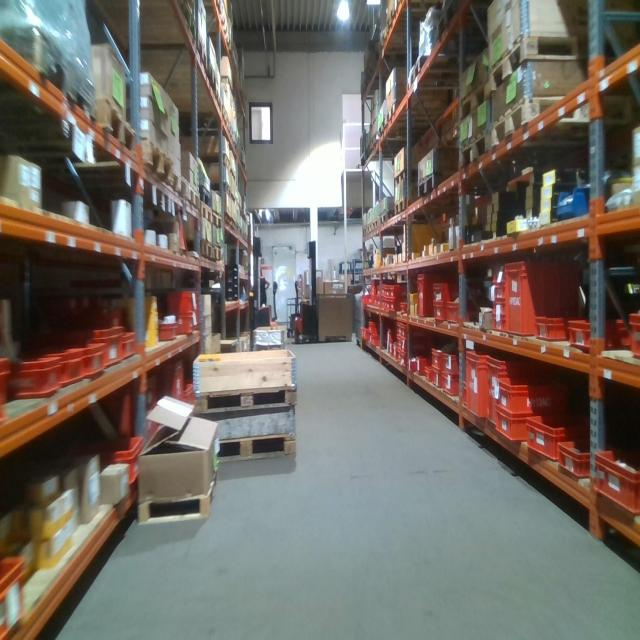pallet: (1, 89, 139, 163), (490, 31, 623, 96), (489, 95, 634, 151), (53, 137, 174, 192), (195, 384, 298, 420), (215, 432, 299, 467), (408, 56, 462, 96), (459, 128, 491, 170), (458, 84, 492, 123), (417, 172, 457, 199), (168, 165, 190, 205), (180, 2, 197, 47), (182, 180, 201, 214), (196, 155, 230, 172), (200, 60, 215, 97), (391, 169, 417, 189), (195, 32, 208, 71), (394, 199, 421, 216), (194, 180, 211, 207), (208, 181, 232, 200), (208, 78, 221, 113), (196, 237, 214, 262), (386, 103, 403, 128), (385, 7, 396, 36), (200, 207, 214, 227), (378, 213, 395, 229), (375, 121, 386, 142), (219, 214, 231, 230), (212, 213, 222, 230), (213, 247, 222, 264), (231, 223, 236, 235)
pallet_truck: (253, 230, 284, 344), (294, 240, 322, 344)
small_load_carrier: (505, 258, 581, 347), (483, 351, 550, 432), (79, 431, 148, 497), (58, 317, 124, 380), (522, 414, 598, 460), (492, 375, 569, 416), (596, 450, 640, 519), (570, 305, 620, 358), (1, 552, 30, 637), (18, 353, 64, 405), (558, 433, 599, 485), (466, 344, 486, 423), (492, 405, 524, 452), (56, 348, 88, 391), (418, 273, 448, 313), (131, 370, 160, 409), (0, 353, 16, 421), (89, 336, 114, 377), (623, 304, 640, 359), (534, 316, 569, 341), (169, 309, 204, 334), (122, 325, 137, 364), (432, 284, 459, 304), (157, 319, 178, 338), (444, 376, 461, 397), (443, 356, 460, 376), (494, 260, 507, 285), (492, 317, 507, 336), (431, 350, 443, 373), (446, 303, 460, 322), (492, 284, 508, 300), (492, 300, 507, 317), (433, 303, 446, 321), (416, 358, 425, 375), (425, 367, 432, 379), (401, 324, 408, 336), (400, 351, 406, 364), (401, 338, 406, 352)
